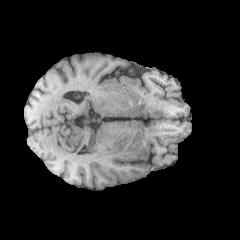glioma: (87, 136, 140, 160)
